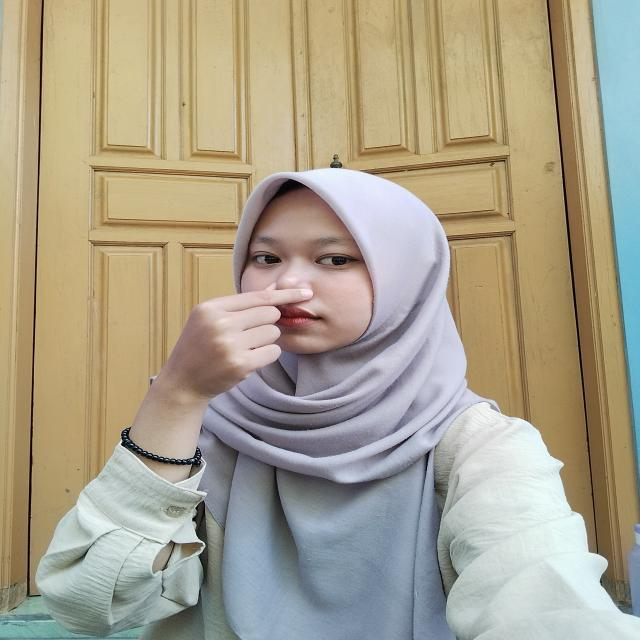bau: (146, 275, 321, 396)
